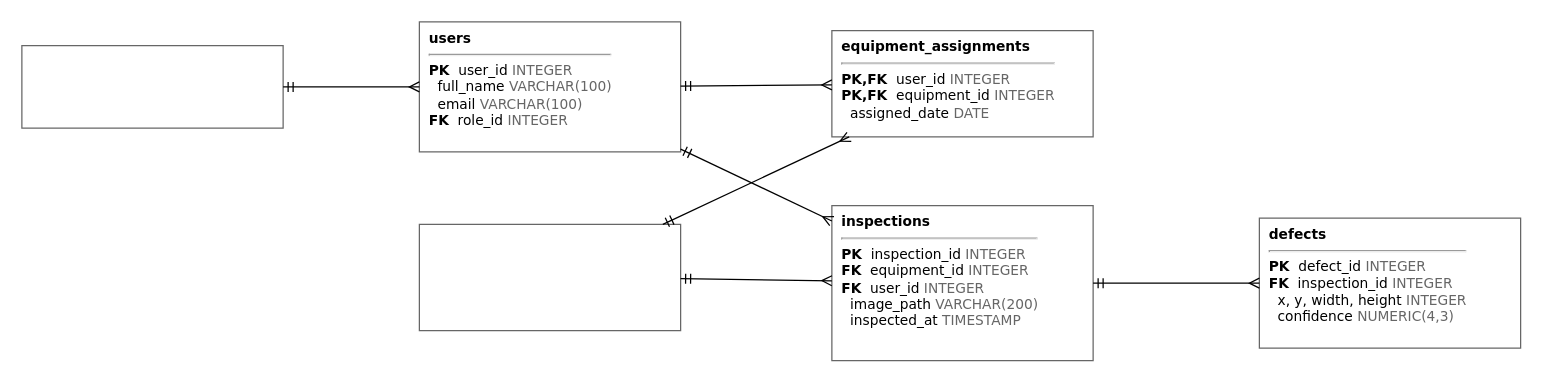
The diagram is 1543 pixels wide and 383 high, and some of its shapes have lost their labels. Each missing label, with the centre of its shape:
"equipment PK equipment_id INTEGER name VARCHAR(100) location VARCHAR(100)" belongs at point (549, 277).
"roles PK role_id INTEGER role_name VARCHAR(30)" belongs at point (152, 86).
